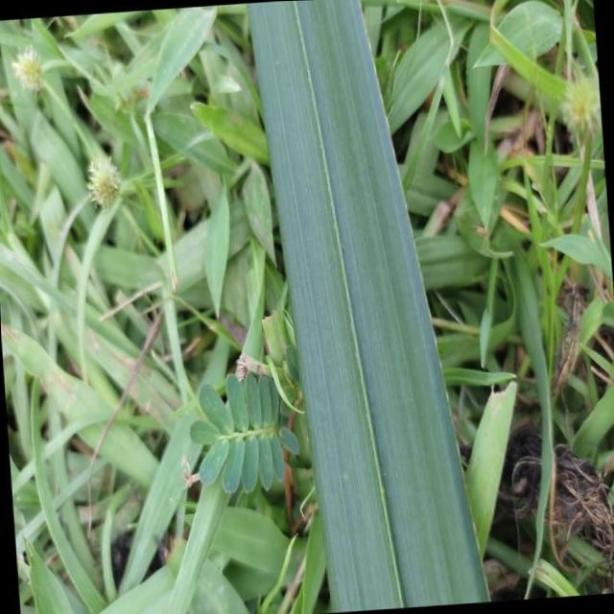Healthy: (251, 2, 494, 610)
